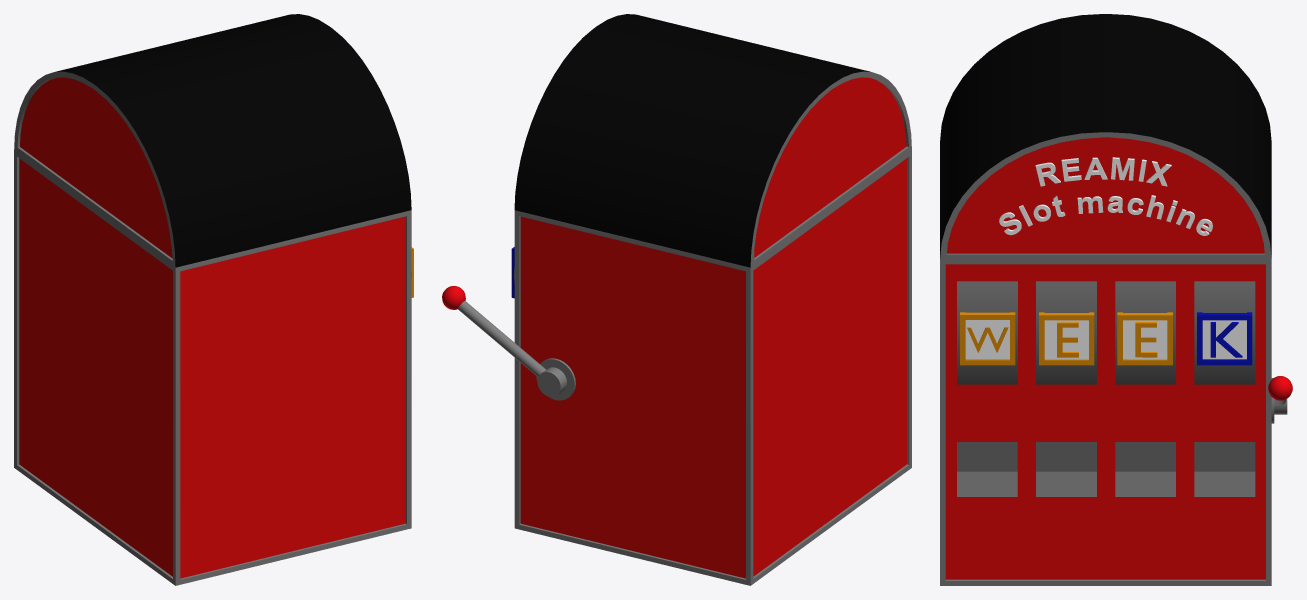
The model's file is LAMACHINEDECLEMENTQUEERICAREFAIT.fbx.
3 views of the same model, side by side, from view 1: azimuth 30°, elevation 25°; view 2: azimuth 150°, elevation 25°; view 3: azimuth 270°, elevation 25° (orthographic). The views are drawn at different scales.
Parts seen in each view (by area): view 1: Cube.006; view 2: Cube.006, Cylinder.002, Cylinder.001, Cylinder; view 3: Cube.006, Roue4ndLetter, Roue1stLetter, Roue2ndLetter, Roue3ndLetter, Wheel1_Cube0W, Wheel3_Cube0E, Wheel2_Cube0E, Wheel4_Cube0K, Text.023, Text.024, Sphere.
Boxes of the visible parts, box(x1,y1,x2,y2) form: Cube.006: box(14, 14, 411, 585); Cube.006: box(514, 14, 911, 585); Cylinder.002: box(457, 301, 546, 376); Cylinder.001: box(537, 367, 566, 396); Cylinder: box(536, 358, 575, 400); Cube.006: box(940, 14, 1271, 585); Roue4ndLetter: box(1194, 281, 1255, 384); Roue1stLetter: box(957, 281, 1017, 384); Roue2ndLetter: box(1036, 281, 1096, 384); Roue3ndLetter: box(1115, 281, 1175, 384); Wheel1_Cube0W: box(960, 312, 1015, 365); Wheel3_Cube0E: box(1117, 312, 1172, 365); Wheel2_Cube0E: box(1039, 312, 1094, 365); Wheel4_Cube0K: box(1197, 312, 1252, 365); Text.023: box(999, 195, 1212, 235); Text.024: box(1035, 157, 1171, 186); Sphere: box(1268, 376, 1292, 400).
Bounding box in the file's own units: 1297 × 1809 × 1274.
